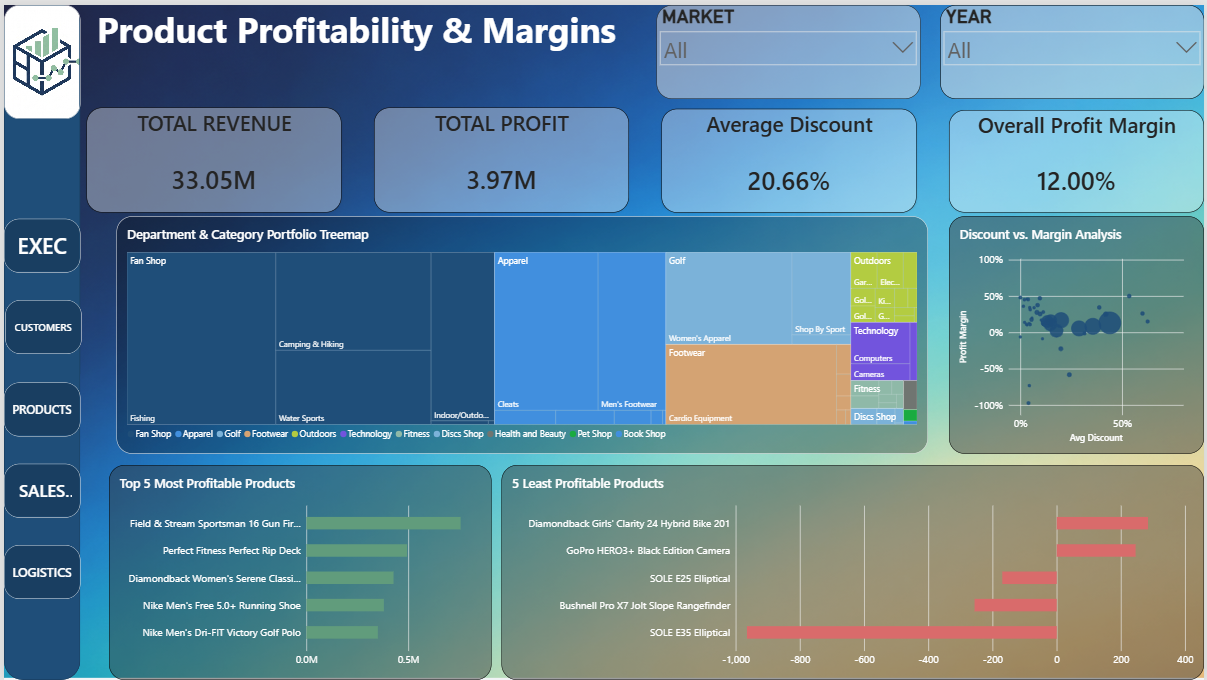

Layout of this report page (visuals, bound fields, positions):
{"tool":"powerbi","page":{"name":"products","canvas":[1920,1080],"ordinal":2},"visuals":[{"type":"shape","box":[0,0,122,1080],"z":0},{"type":"textbox","box":[132,0,864,76],"z":1000},{"type":"slicer","fields":{"Values":["gold dim_date.year"]},"box":[1498,0,422,150],"z":2000},{"type":"slicer","fields":{"Values":["gold fact_orders.market"]},"box":[1044,0,422,150],"z":3000},{"type":"clusteredBarChart","title":"Top 5 Most Profitable Products","fields":{"Category":["gold dim_products.product_name"],"Y":["KEY_MEASURES.TOTAL PROFIT"]},"box":[168,736,612,344],"z":5000},{"type":"cardVisual","title":"TOTAL REVENUE","fields":{"Data":["KEY_MEASURES.TOTAL REVENUE"]},"box":[132,164,408,168],"z":12001},{"type":"cardVisual","title":"TOTAL PROFIT","fields":{"Data":["KEY_MEASURES.TOTAL PROFIT"]},"box":[592,164,408,168],"z":12002},{"type":"cardVisual","title":"Average Discount","fields":{"Data":["KEY_MEASURES.Avg Discount"]},"box":[1052,166,408,166],"z":12003},{"type":"cardVisual","title":"Overall Profit Margin","fields":{"Data":["KEY_MEASURES.Profit Margin"]},"box":[1512,168,408,164],"z":12004},{"type":"scatterChart","title":"Discount vs. Margin Analysis","fields":{"Category":["gold dim_products.product_name"],"Size":["KEY_MEASURES.TOTAL REVENUE"],"X":["KEY_MEASURES.Avg Discount"],"Y":["KEY_MEASURES.Profit Margin"]},"box":[1512,338,408,380],"z":12005},{"type":"clusteredBarChart","title":"5 Least Profitable Products","fields":{"Category":["gold dim_products.product_name"],"Y":["KEY_MEASURES.TOTAL PROFIT"]},"box":[796,736,1124,344],"z":12006},{"type":"treemap","title":"Department & Category Portfolio Treemap","fields":{"Details":["gold dim_products.category_name"],"Group":["gold dim_products.department_name"],"Values":["KEY_MEASURES.TOTAL REVENUE"]},"box":[179.3,338,1298,380],"z":12007},{"type":"image","box":[0,0,122,182],"z":12008},{"type":"actionButton","title":"EXEC","box":[0,342,122,86],"z":12009},{"type":"actionButton","box":[2,472.5,122,86],"z":12010},{"type":"actionButton","box":[0,603,122,86],"z":12011},{"type":"actionButton","box":[0,733.5,122,86],"z":12012},{"type":"actionButton","box":[0,864,122,86],"z":12013}]}

Visuals, with their boxes in screenshot pixels (x1, y1, x2, y2), scaled from the page's 1920x1080 canvas onto the 1207x680 screenshot:
shape: 0, 0, 77, 679
textbox: 83, 0, 626, 48
slicer - gold dim_date.year: 942, 0, 1206, 94
slicer - gold fact_orders.market: 656, 0, 922, 94
"Top 5 Most Profitable Products" clusteredBarChart: 106, 463, 490, 679
"TOTAL REVENUE" cardVisual: 83, 103, 339, 209
"TOTAL PROFIT" cardVisual: 372, 103, 629, 209
"Average Discount" cardVisual: 661, 105, 918, 209
"Overall Profit Margin" cardVisual: 951, 106, 1206, 209
"Discount vs. Margin Analysis" scatterChart: 951, 213, 1206, 452
"5 Least Profitable Products" clusteredBarChart: 500, 463, 1206, 679
"Department & Category Portfolio Treemap" treemap: 113, 213, 929, 452
image: 0, 0, 77, 115
"EXEC" actionButton: 0, 215, 77, 269
actionButton: 1, 298, 78, 352
actionButton: 0, 380, 77, 434
actionButton: 0, 462, 77, 516
actionButton: 0, 544, 77, 598
